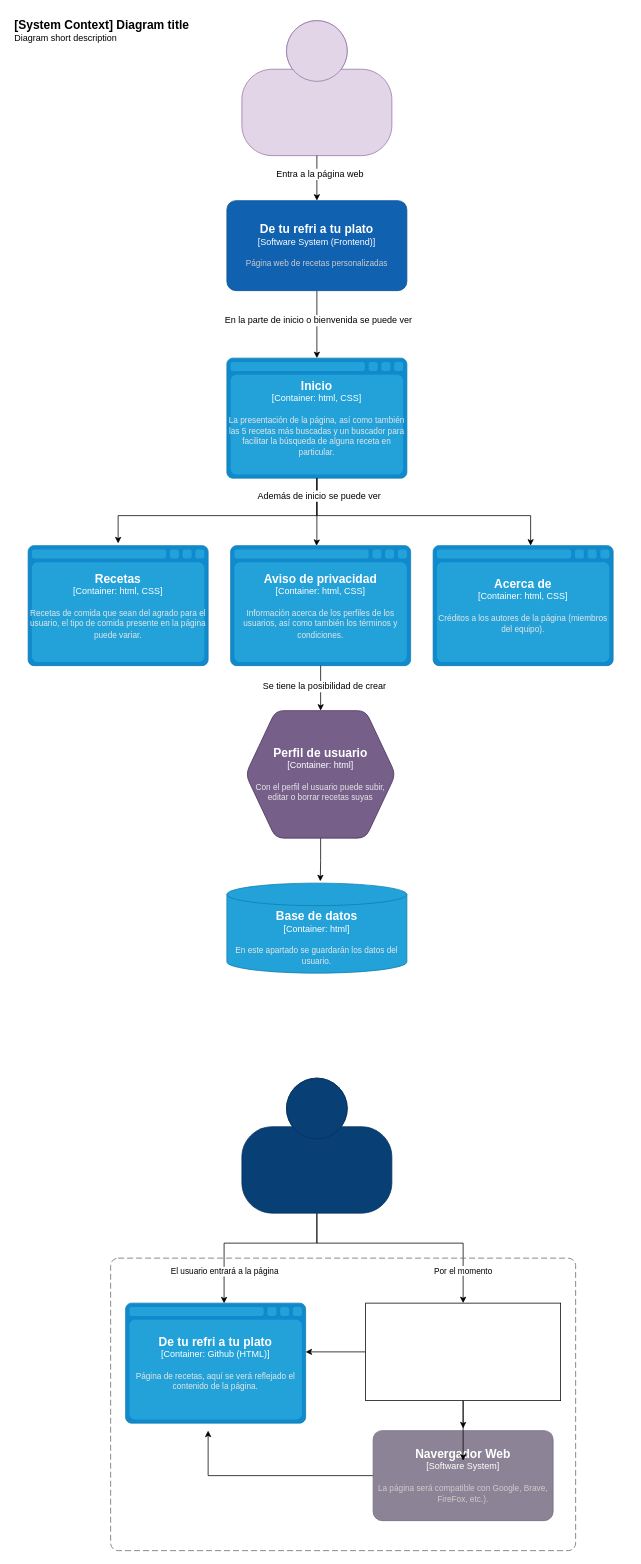
This 641x1564 diagram has some shape labels left out. The box of each missing label's shape, as (x1, y1, x2, y2) in pixels:
Acerca de la página web [Container]: (110, 1257, 576, 1551)
La página podrá ser utilizada en laptop de manera local.: (365, 1302, 561, 1401)
Usuario [Person] Usuario que entra en la página: (241, 1077, 392, 1213)
Usuario [Person] Usuario que entre a la página: (241, 20, 392, 156)
